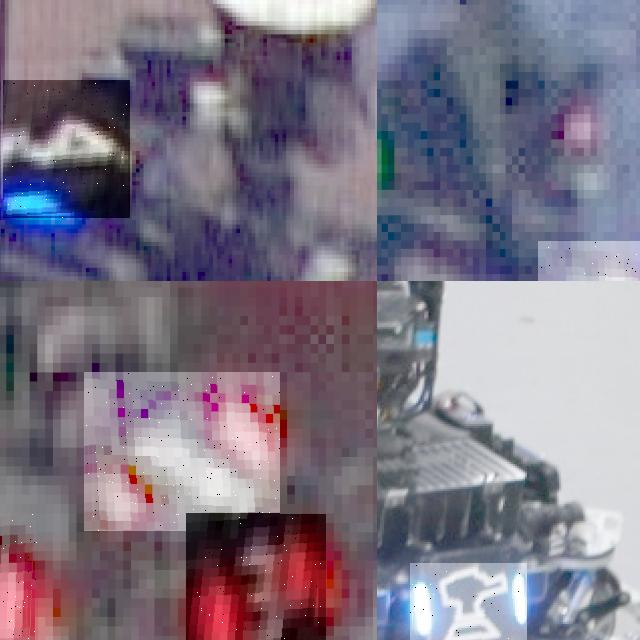B4: (3, 80, 130, 218)
Bs: (410, 563, 526, 640)
R3: (84, 372, 280, 532), (185, 513, 326, 640)
